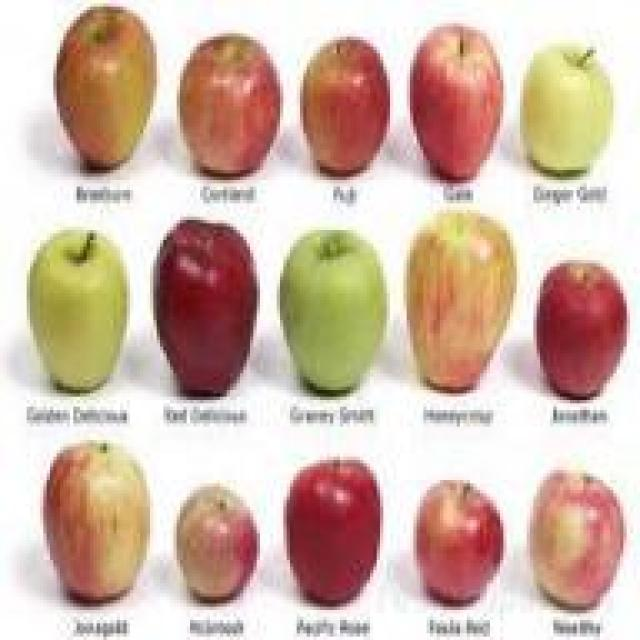apple: (403, 210, 517, 400), (174, 27, 284, 186), (147, 227, 253, 390), (43, 450, 150, 603), (280, 230, 383, 387), (23, 230, 117, 393), (530, 250, 630, 397), (410, 23, 500, 184), (283, 457, 380, 603), (530, 467, 623, 603), (520, 46, 617, 176), (300, 37, 383, 183), (173, 480, 260, 607), (410, 484, 500, 604)
